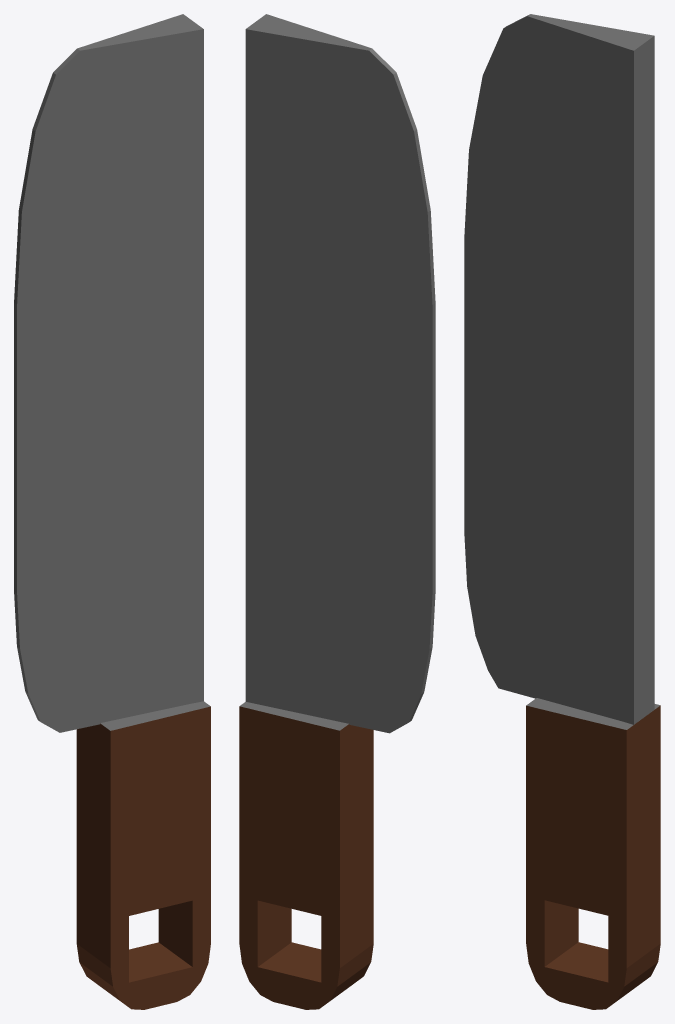
The model's file is knife.fbx.
3 views of the same model, side by side, from view 1: azimuth 30°, elevation 25°; view 2: azimuth 150°, elevation 25°; view 3: azimuth 330°, elevation 25° (orthographic).
Parts seen in each view (by area): view 1: Cube.003; view 2: Cube.003; view 3: Cube.003.
Boxes of the visible parts, bbox=[...] form: Cube.003: bbox=[14, 14, 210, 1009]; Cube.003: bbox=[239, 14, 435, 1009]; Cube.003: bbox=[464, 14, 660, 1009].
Bounding box in the file's own units: 18.77 × 96.69 × 6.19.
